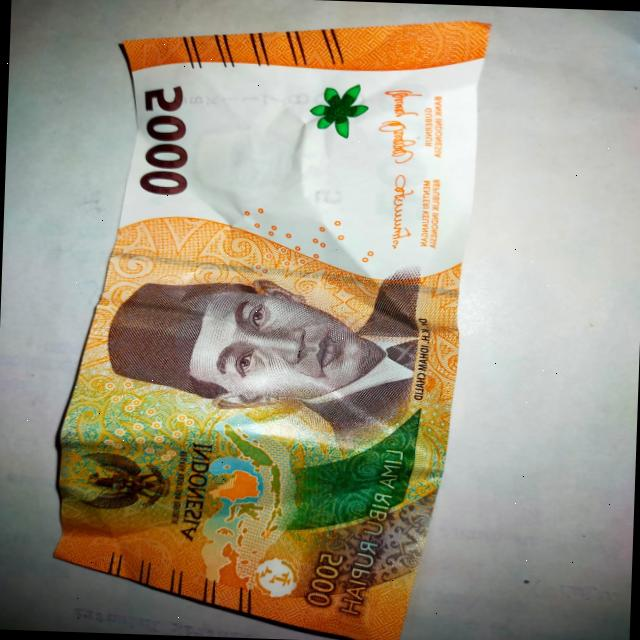5K: (35, 0, 515, 640)
